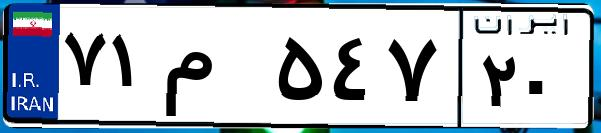0: (525, 38, 570, 115)
1: (110, 28, 158, 98)
2: (475, 38, 525, 113)
4: (330, 28, 385, 110)
5: (270, 28, 330, 110)
7: (385, 28, 445, 110), (57, 26, 110, 100)
م: (158, 20, 270, 120)
